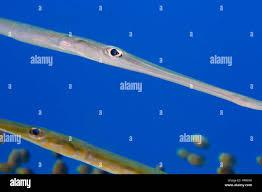Fistularia commersonii: (10, 2, 262, 123), (1, 100, 173, 171)
